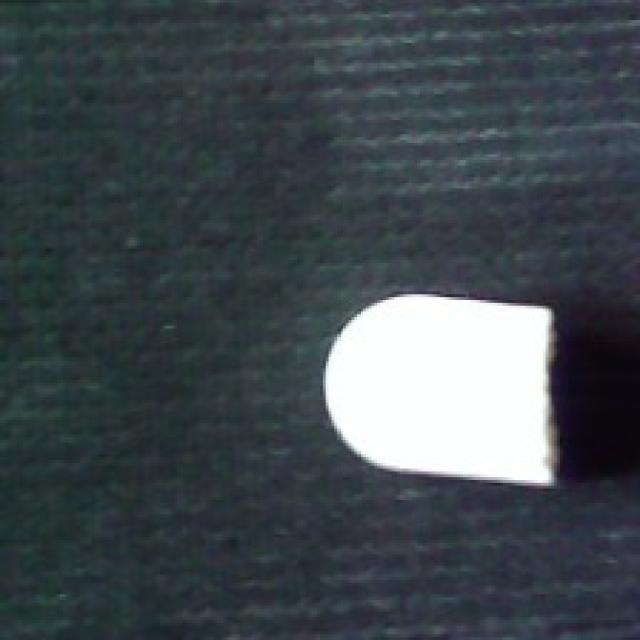defected: (317, 283, 572, 488)
